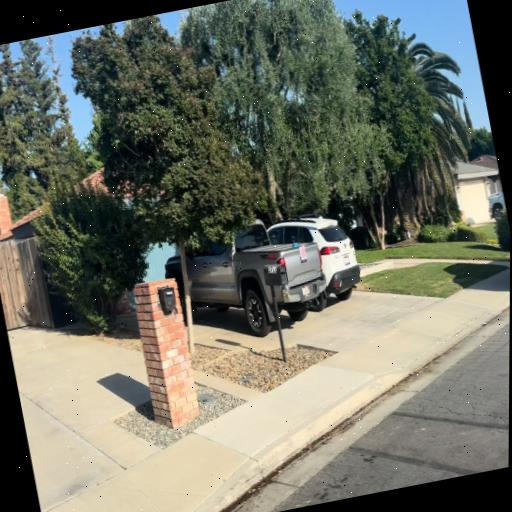bullseye: (299, 245, 307, 261)
